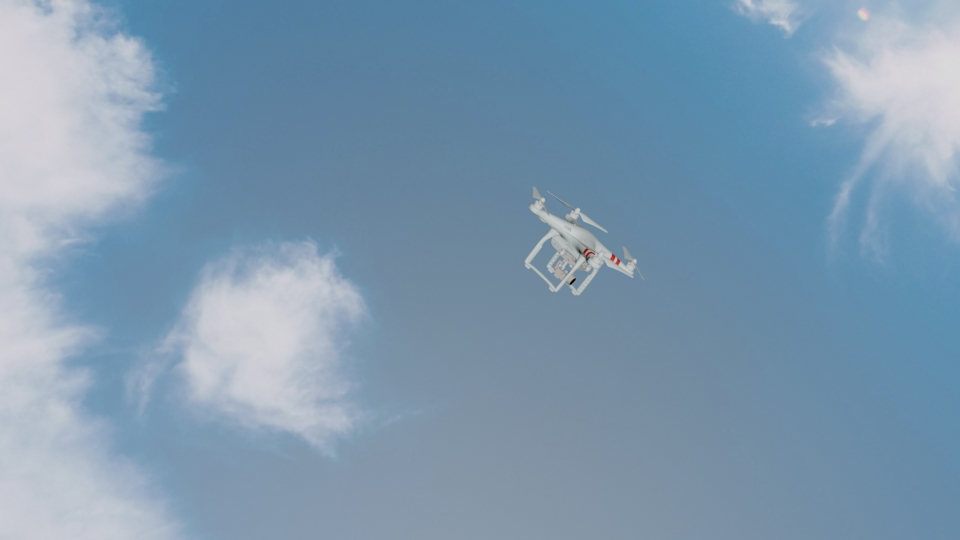drone: (517, 186, 645, 295)
